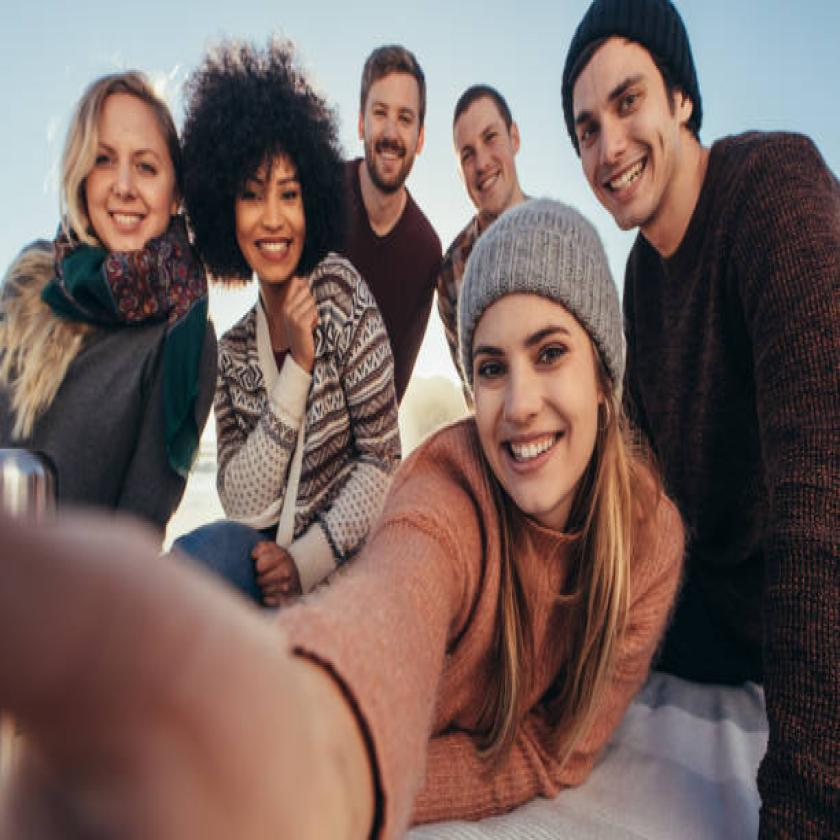Sin_casco: (191, 36, 348, 325), (46, 70, 192, 279), (353, 38, 433, 193), (449, 68, 519, 210)
